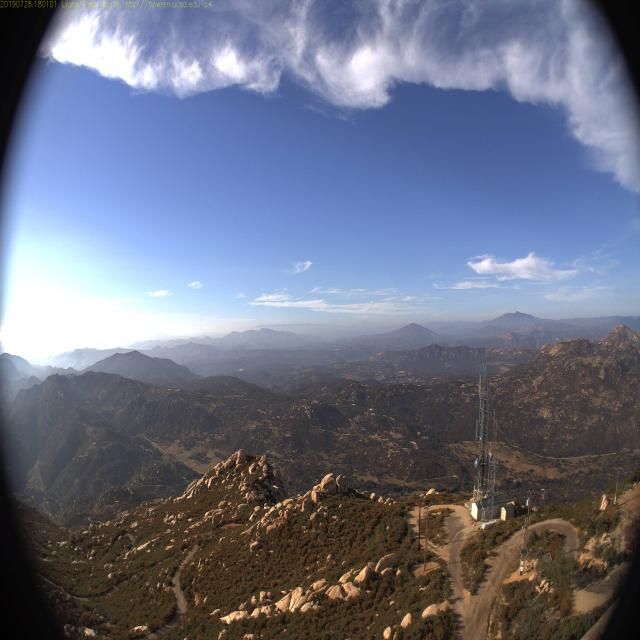smoke: (62, 358, 84, 372)
